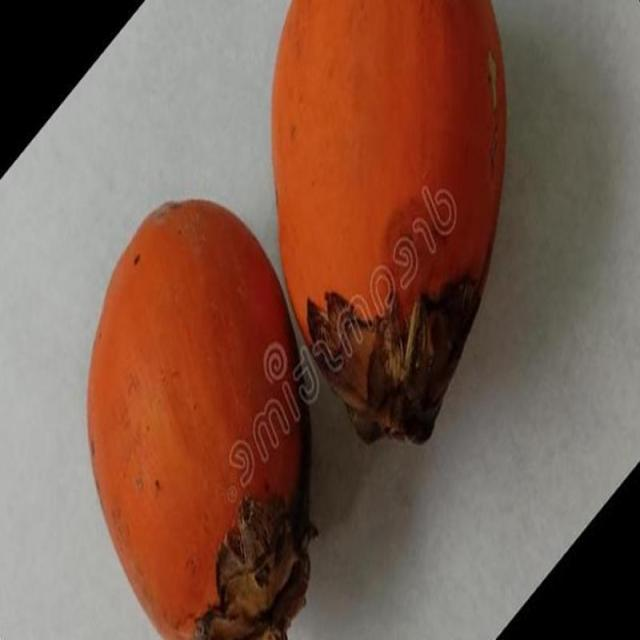good: (270, 0, 508, 447), (86, 199, 317, 639)
